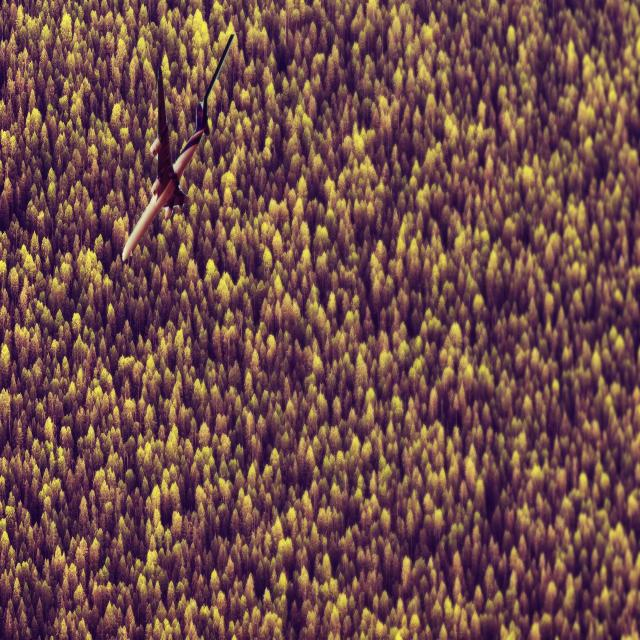airplane: (121, 32, 234, 263)
